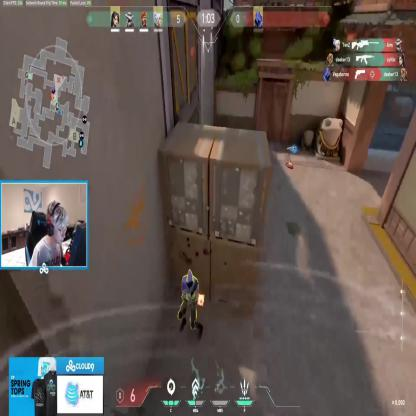enemy: (178, 268, 203, 340)
enemy_head: (186, 269, 194, 287)
